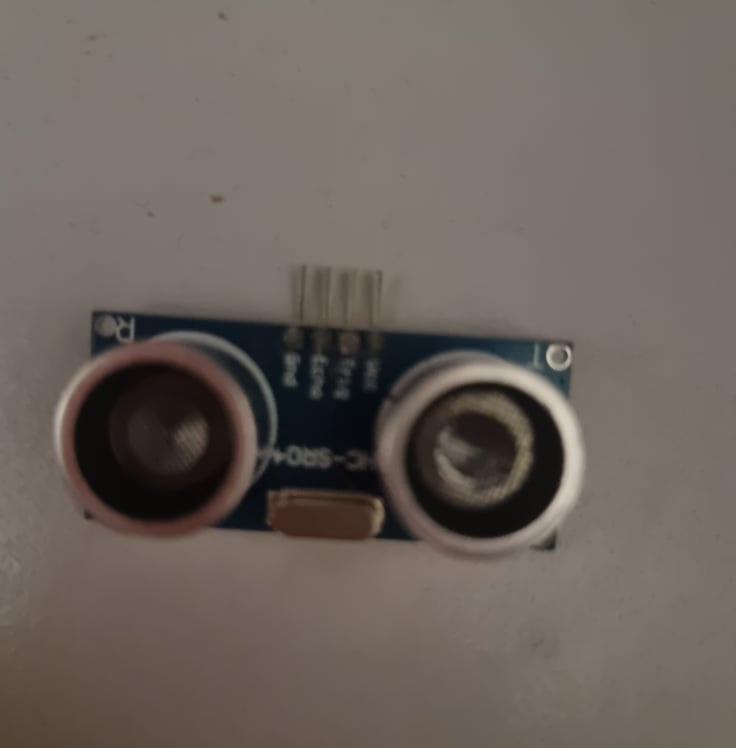SENSOR: (49, 306, 590, 568)
